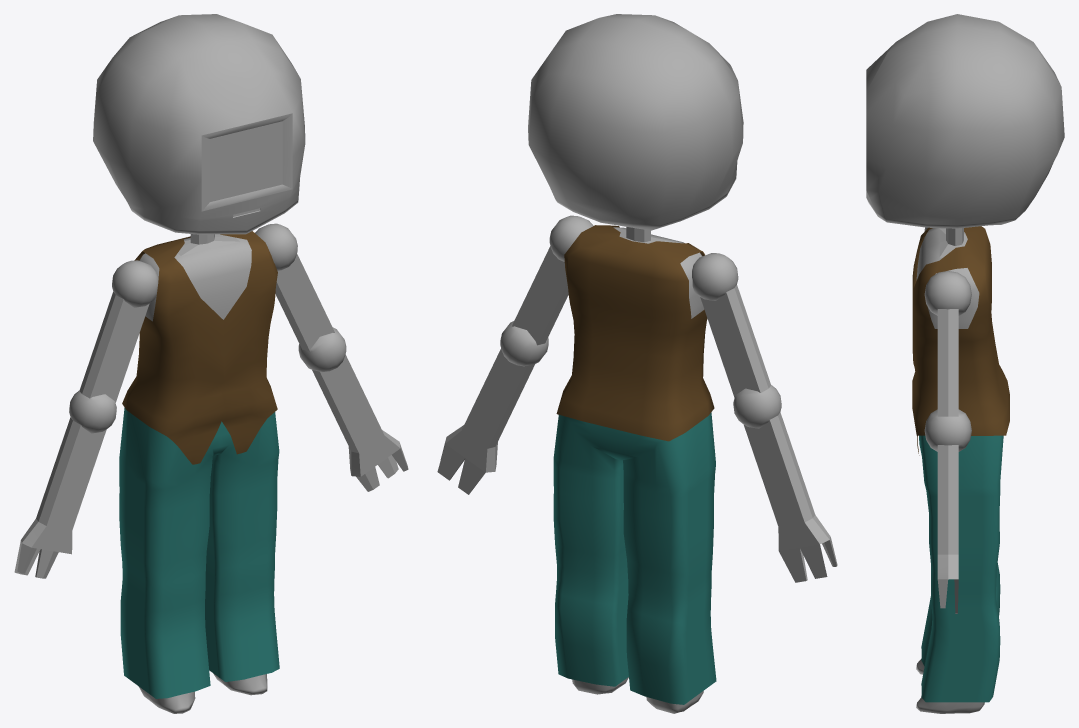
Rendered from Spotlight-Cyclops.fbx.
The picture shows the model from 3 angles, left to right: view 1: azimuth 30°, elevation 25°; view 2: azimuth 150°, elevation 25°; view 3: azimuth 270°, elevation 25°; orthographic projection.
Visible parts, largest first — view 1: pCube3, Spotlight_head, pCube2, pCylinder9, pCylinder7, pCube1; view 2: pCube3, Spotlight_head, pCube2, pCylinder9, pCylinder7, pCube1; view 3: Spotlight_head, pCube3, pCube2, pCylinder7, pCube1.
Part boxes in pixels (left/top/right/bottom): pCube3: left=119, top=407, right=279, bottom=698; Spotlight_head: left=93, top=14, right=305, bottom=234; pCube2: left=122, top=231, right=277, bottom=464; pCylinder9: left=14, top=260, right=158, bottom=578; pCylinder7: left=255, top=223, right=408, bottom=491; pCube1: left=138, top=234, right=267, bottom=713; pCube3: left=553, top=412, right=716, bottom=704; Spotlight_head: left=528, top=14, right=743, bottom=230; pCube2: left=556, top=225, right=714, bottom=441; pCylinder9: left=692, top=253, right=837, bottom=582; pCylinder7: left=437, top=215, right=593, bottom=494; pCube1: left=572, top=227, right=704, bottom=713; Spotlight_head: left=866, top=14, right=1064, bottom=228; pCube3: left=919, top=435, right=1003, bottom=702; pCube2: left=912, top=226, right=1009, bottom=455; pCylinder7: left=924, top=271, right=971, bottom=613; pCube1: left=916, top=228, right=984, bottom=713.
Bounding box in the file's own units: 83.4 × 136 × 36.81.
